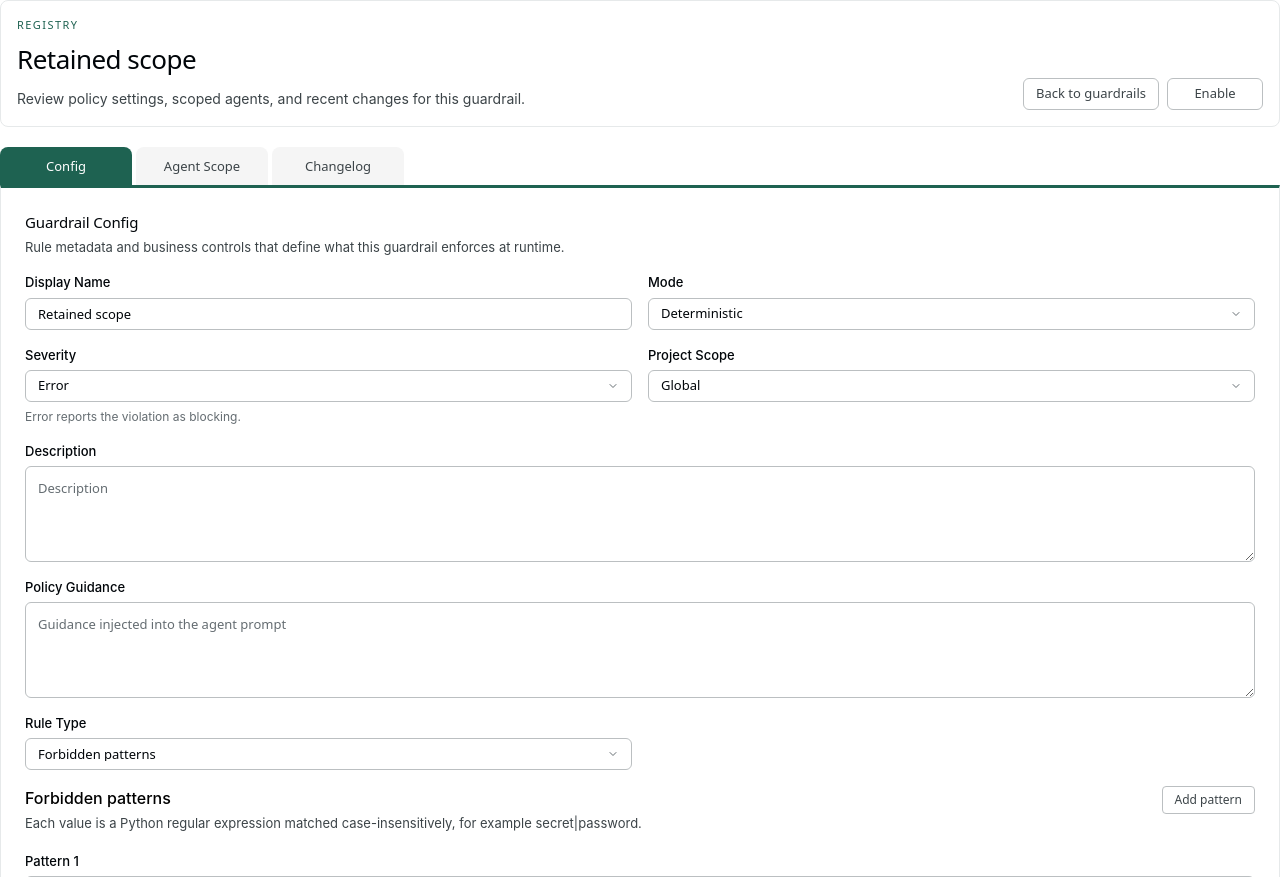
Test case: RegistryGuardrailsDetailPage › preserves retained scope while eligible agents are loading
The image size is (1280, 877).
Click the tab "Agent Scope".
click(202, 166)  # box [136,147,268,185]
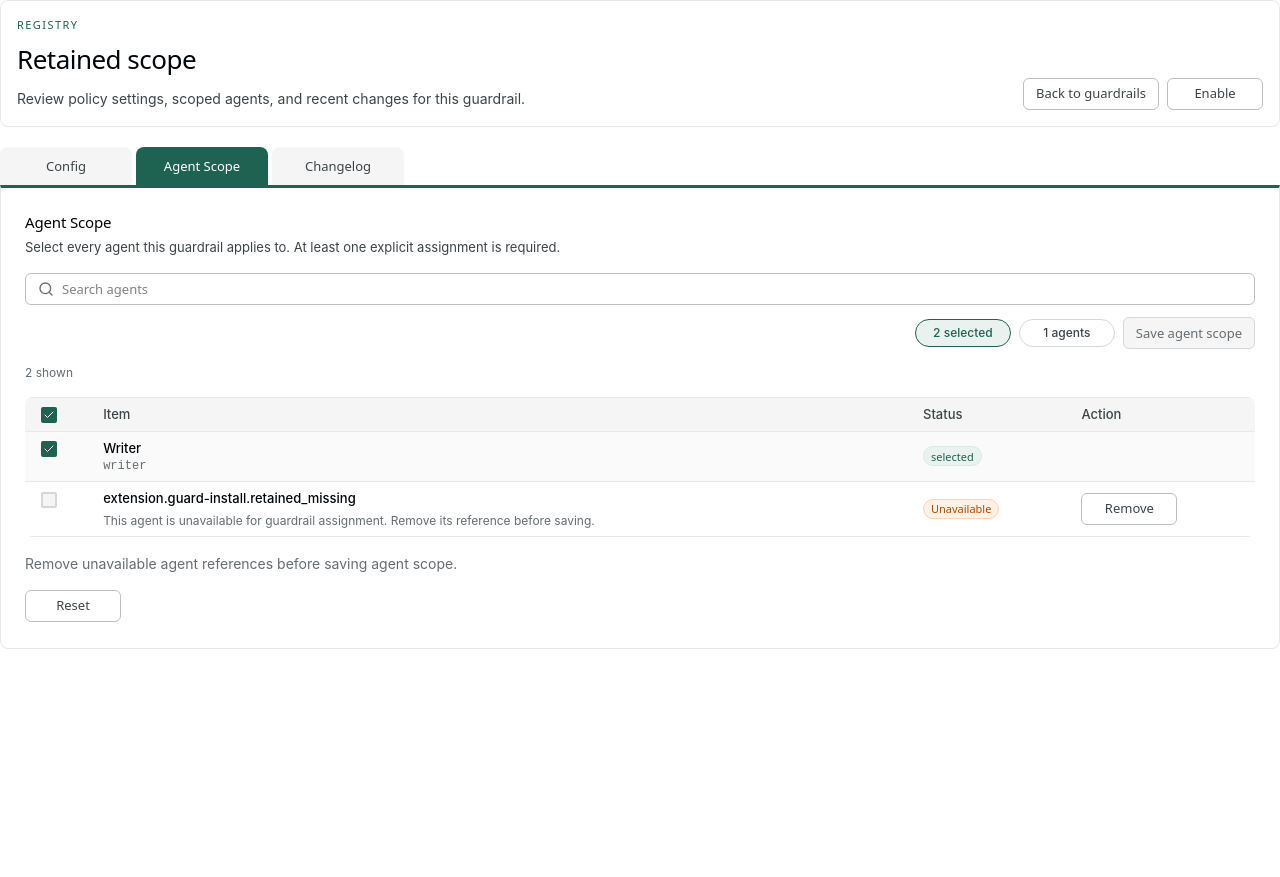
Result: the button "Save agent scope" is disabled at [1123,318,1255,350]
Result: the checkbox named "Toggle Writer" is enabled at [41,441,57,457]
Result: the text "extension.guard-install.retained_missing" is shown at [103,490,356,506]
